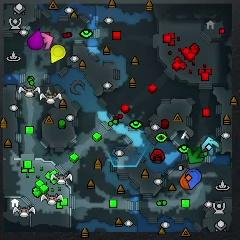p1: (187, 169, 201, 191)
p3: (27, 30, 43, 50)
p4: (51, 45, 66, 65)
p5: (181, 169, 193, 191)
x1: (41, 32, 53, 51)
x3: (202, 136, 219, 155)
x4: (187, 147, 205, 166)
